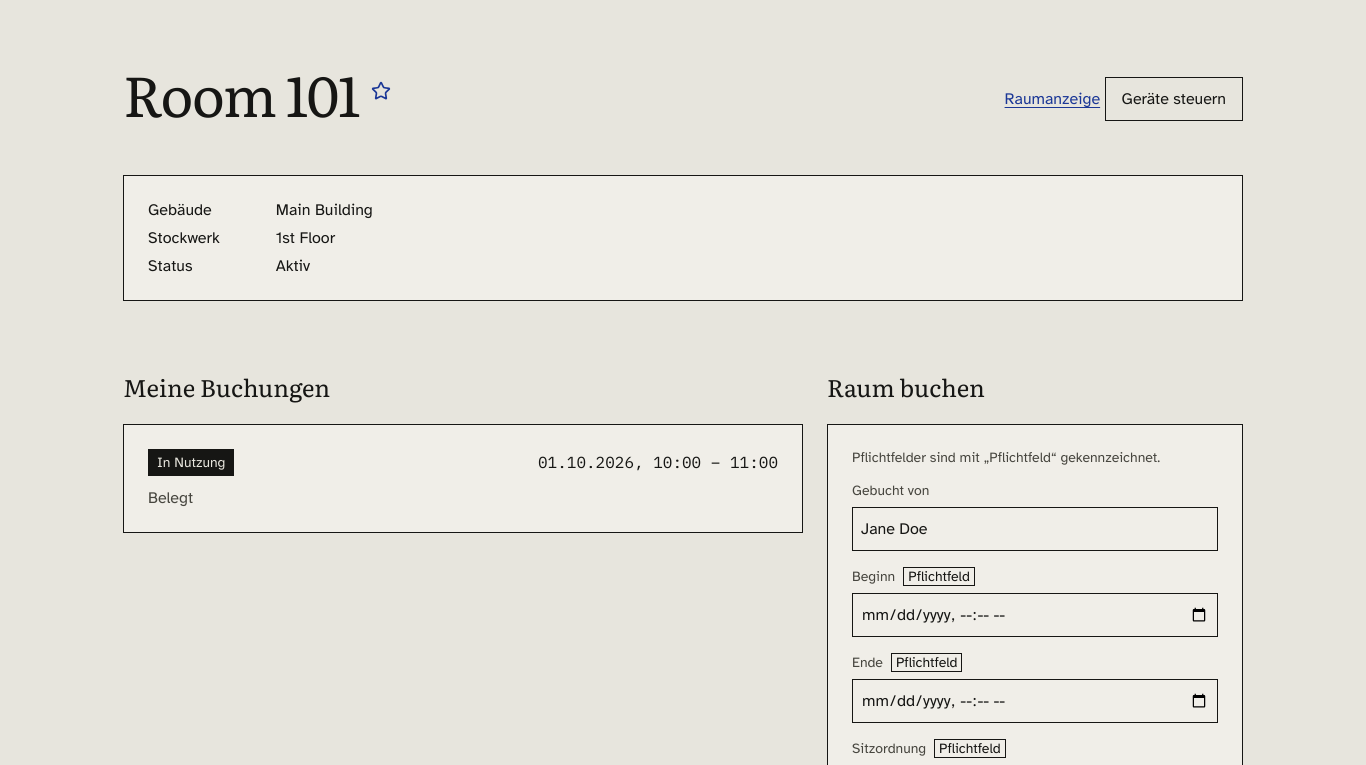
Test case: RoomDetailPage › opens device control as a popup and closes it again
Click the button "Geräte steuern". click: (1174, 99)
box: [1105,77,1243,121]
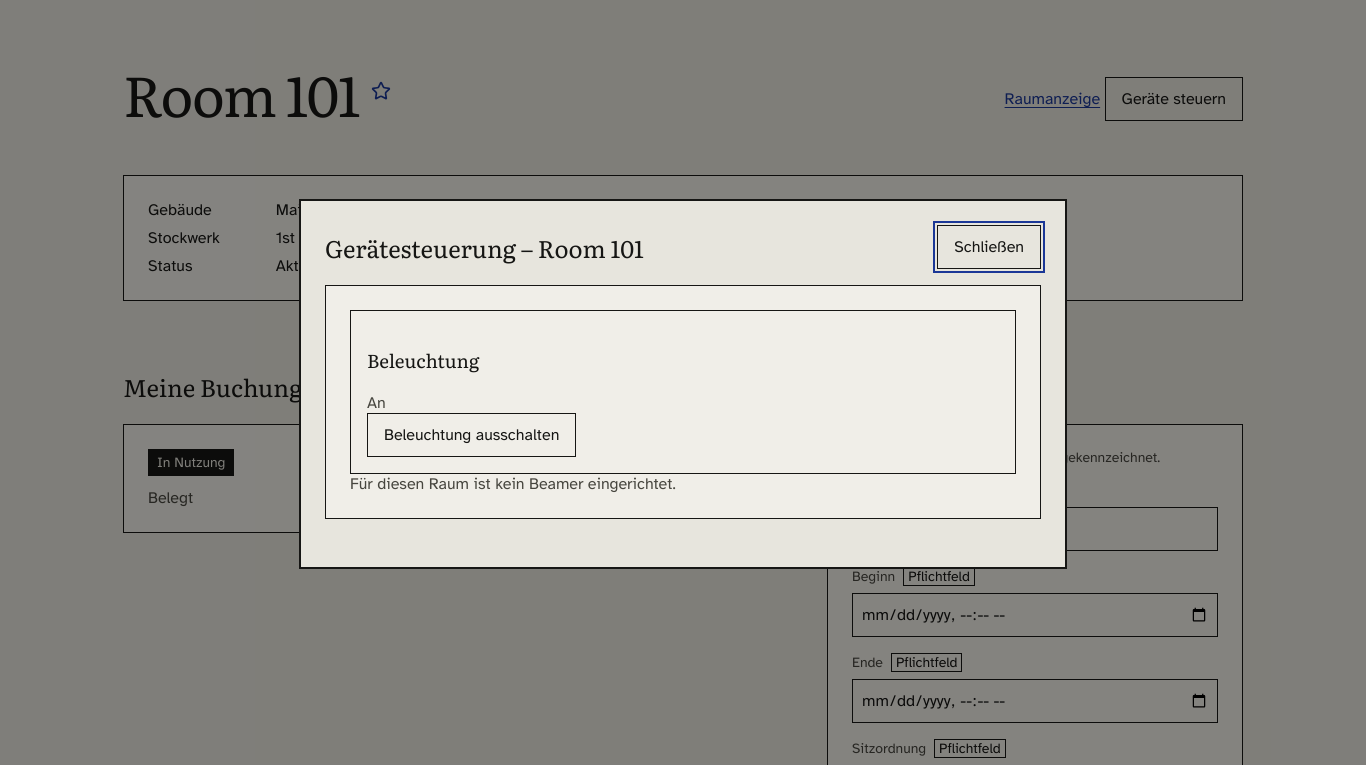
Result: the heading "Beleuchtung" is shown at [367,346,479,374]
Click the button "Schließen". click: (989, 247)
box: [937,225,1041,269]
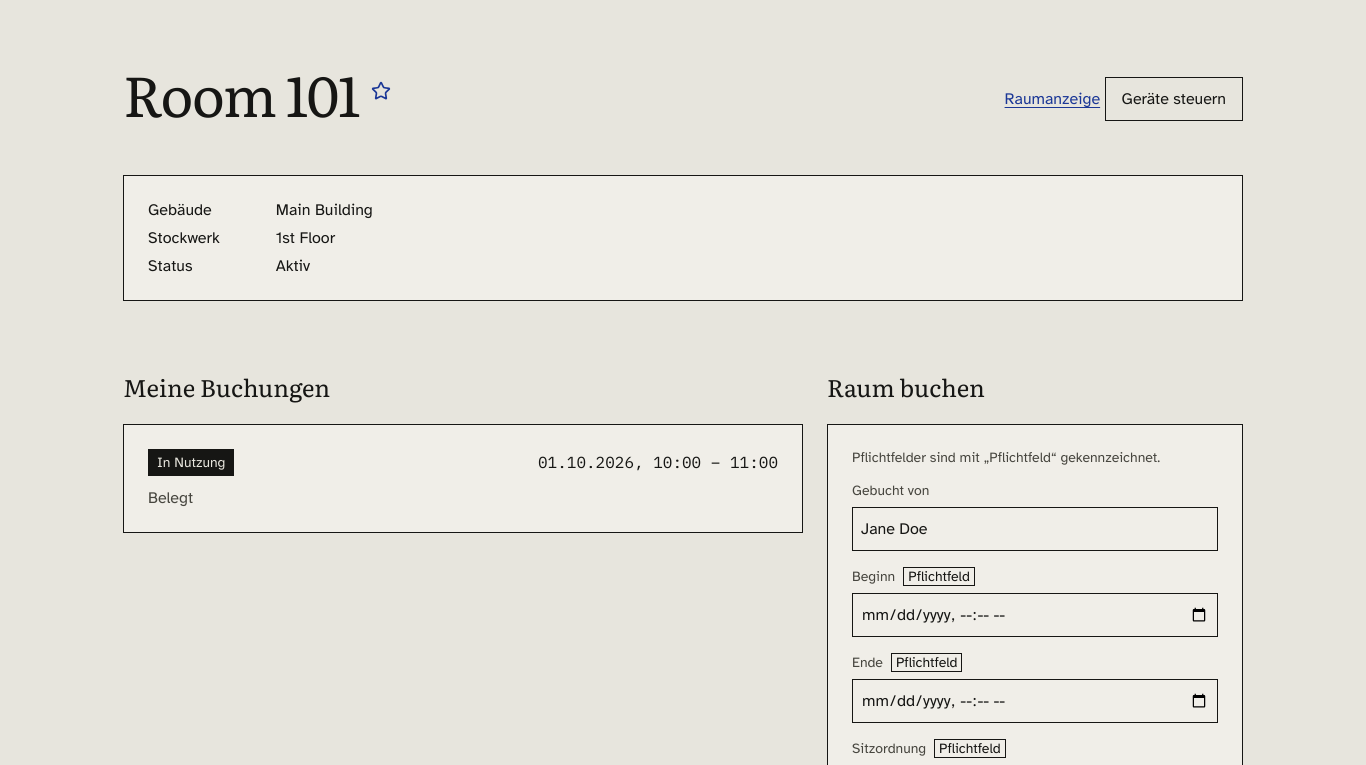
Result: the dialog is gone
Click the button "Geräte steuern". click: (1174, 99)
box: [1105,77,1243,121]
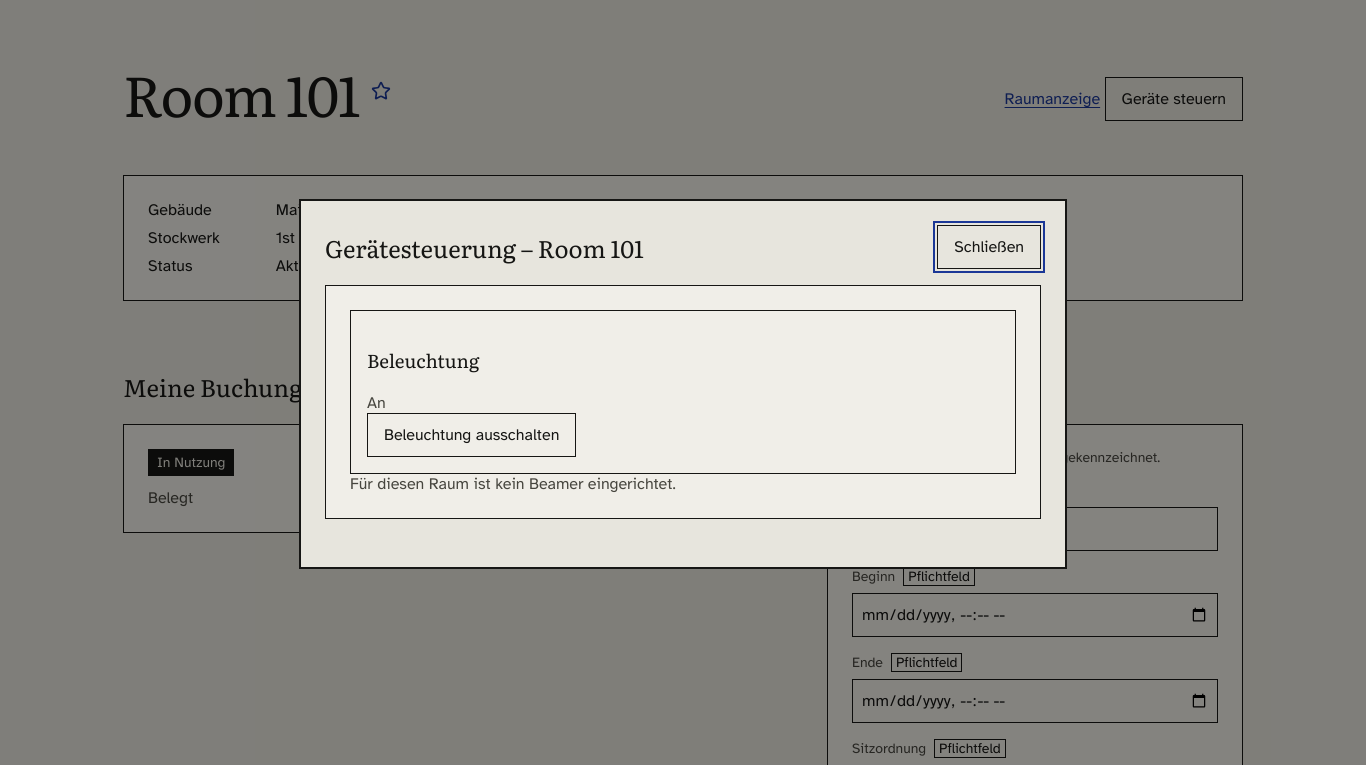
Result: the dialog is shown at [299,199,1067,569]
Press Escape
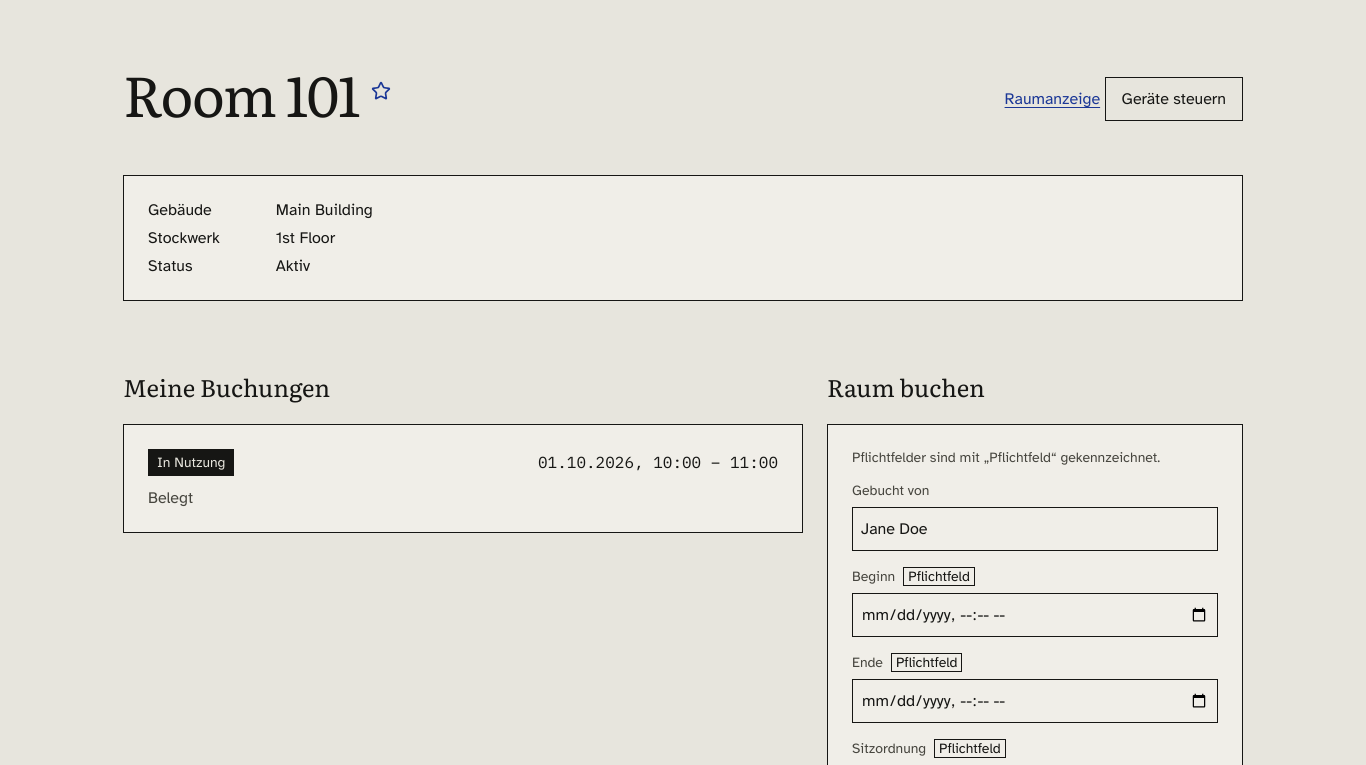
Result: the dialog is gone
